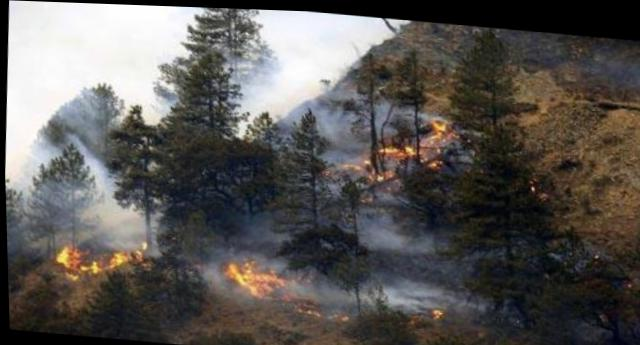fire: (332, 106, 460, 190), (49, 237, 143, 287), (220, 247, 295, 305)
